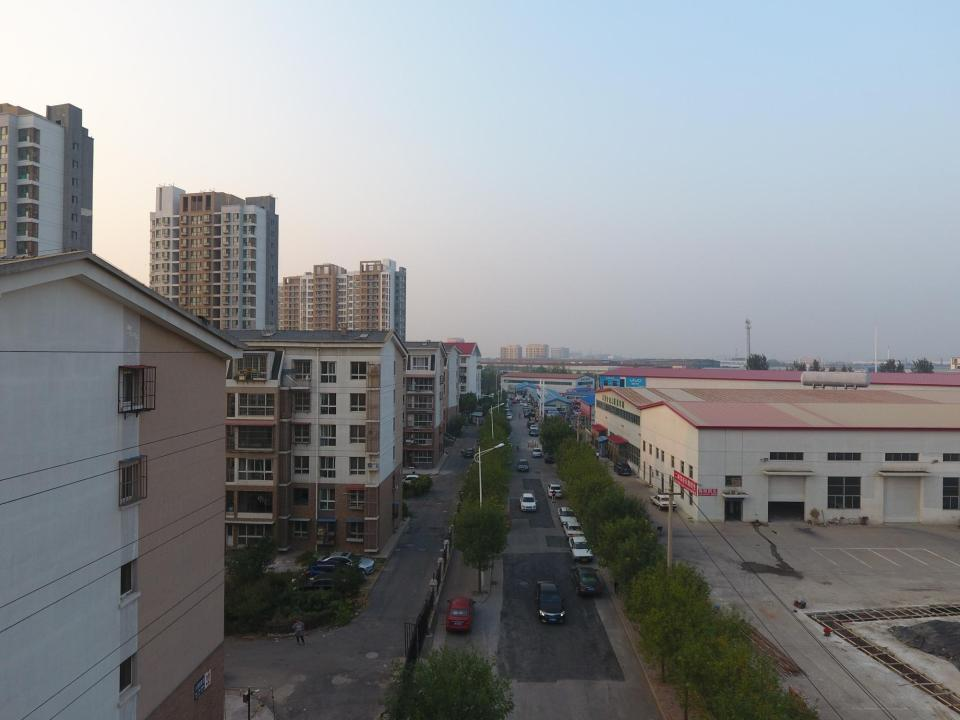car: (294, 573, 359, 597), (534, 581, 566, 624), (305, 562, 367, 584), (317, 552, 376, 574), (446, 597, 476, 632), (571, 566, 602, 595), (568, 536, 593, 562), (650, 494, 676, 511), (562, 521, 584, 540), (493, 510, 512, 532), (557, 507, 578, 526), (402, 474, 428, 487), (520, 493, 537, 511), (613, 462, 632, 475), (547, 483, 563, 498), (517, 459, 529, 471), (544, 452, 556, 463), (532, 448, 542, 458), (528, 428, 539, 436), (464, 448, 474, 456), (530, 424, 538, 432), (511, 399, 518, 404)
van: (527, 422, 535, 428)
